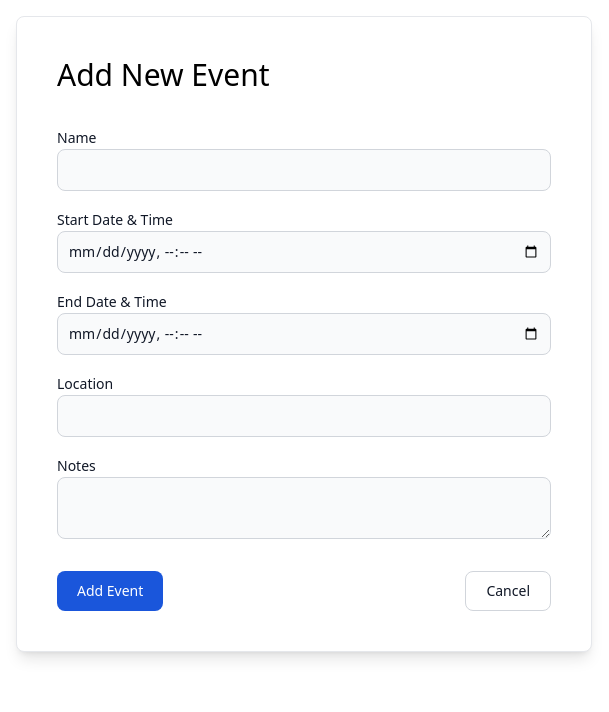
Test: NewEvent Page › prevents form submission if required fields are empty
Check: the heading "Add New Event" is shown, box left=57, top=54, right=270, bottom=95
Click the button "Add Event": x=110, y=591 left=57, top=571, right=163, bottom=611
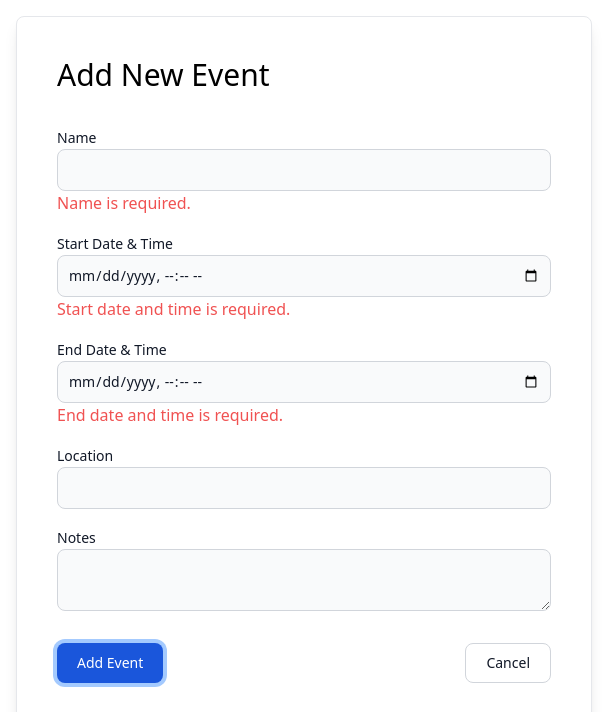
Check: the text "Name is required." is shown, box left=57, top=192, right=191, bottom=214
Check: the text "Start date and time is required." is shown, box left=57, top=298, right=290, bottom=320
Check: the text "End date and time is required." is shown, box left=57, top=404, right=283, bottom=426
